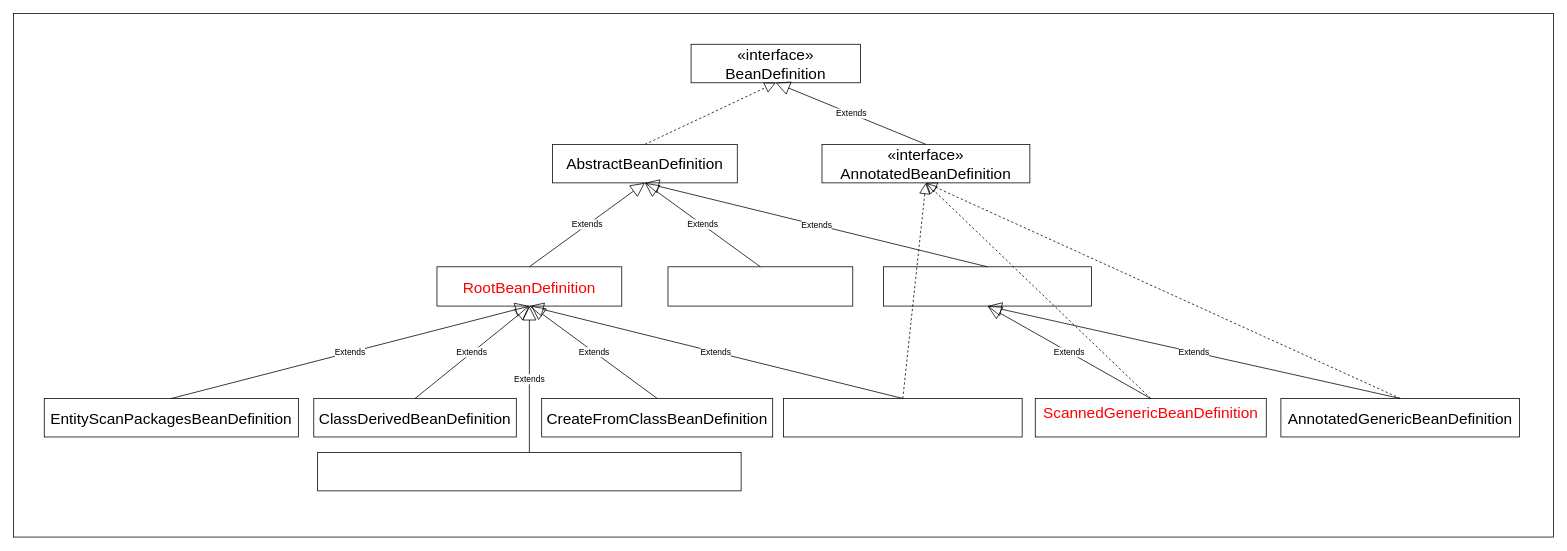
Some shapes in this 1567 by 551 pixel diagram are drawn without their labels. The box of each missing label's shape, as (x1, y1, x2, y2) in pixels:
ChildBeanDefinition: (667, 266, 853, 306)
ConfigurationClassBeanDefinition: (783, 398, 1022, 437)
GenericBeanDefinition: (883, 266, 1091, 306)
ServletComponentRegisteringPostProcessorBeanDefinition: (317, 452, 741, 491)
